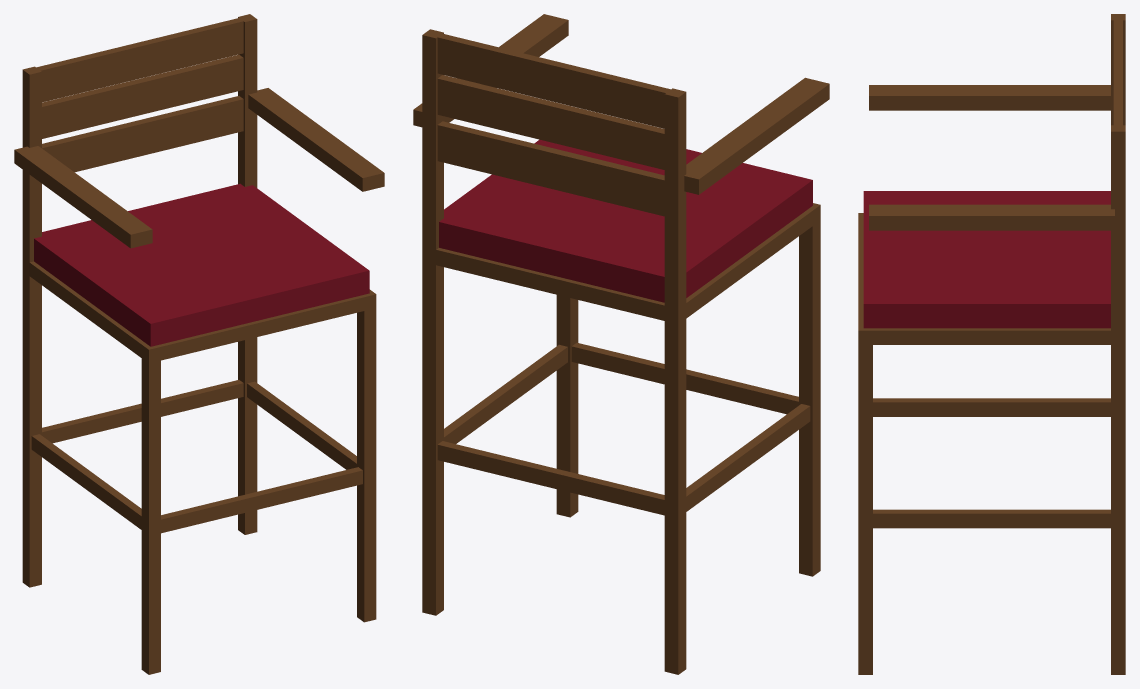
The model's file is sillon-bar.glb.
3 renders of one model, left to right at view 1: azimuth 30°, elevation 25°; view 2: azimuth 150°, elevation 25°; view 3: azimuth 270°, elevation 25°, orthographic. The views are drawn at different scales.
Parts seen in each view (by area): view 1: sillon-bar; view 2: sillon-bar; view 3: sillon-bar.
Boxes of the visible parts, x1=… form: sillon-bar: x1=14, y1=14, x2=384, y2=674; sillon-bar: x1=413, y1=14, x2=829, y2=674; sillon-bar: x1=858, y1=14, x2=1125, y2=674.
Bounding box in the file's own units: 0.58 × 1.12 × 0.5.
